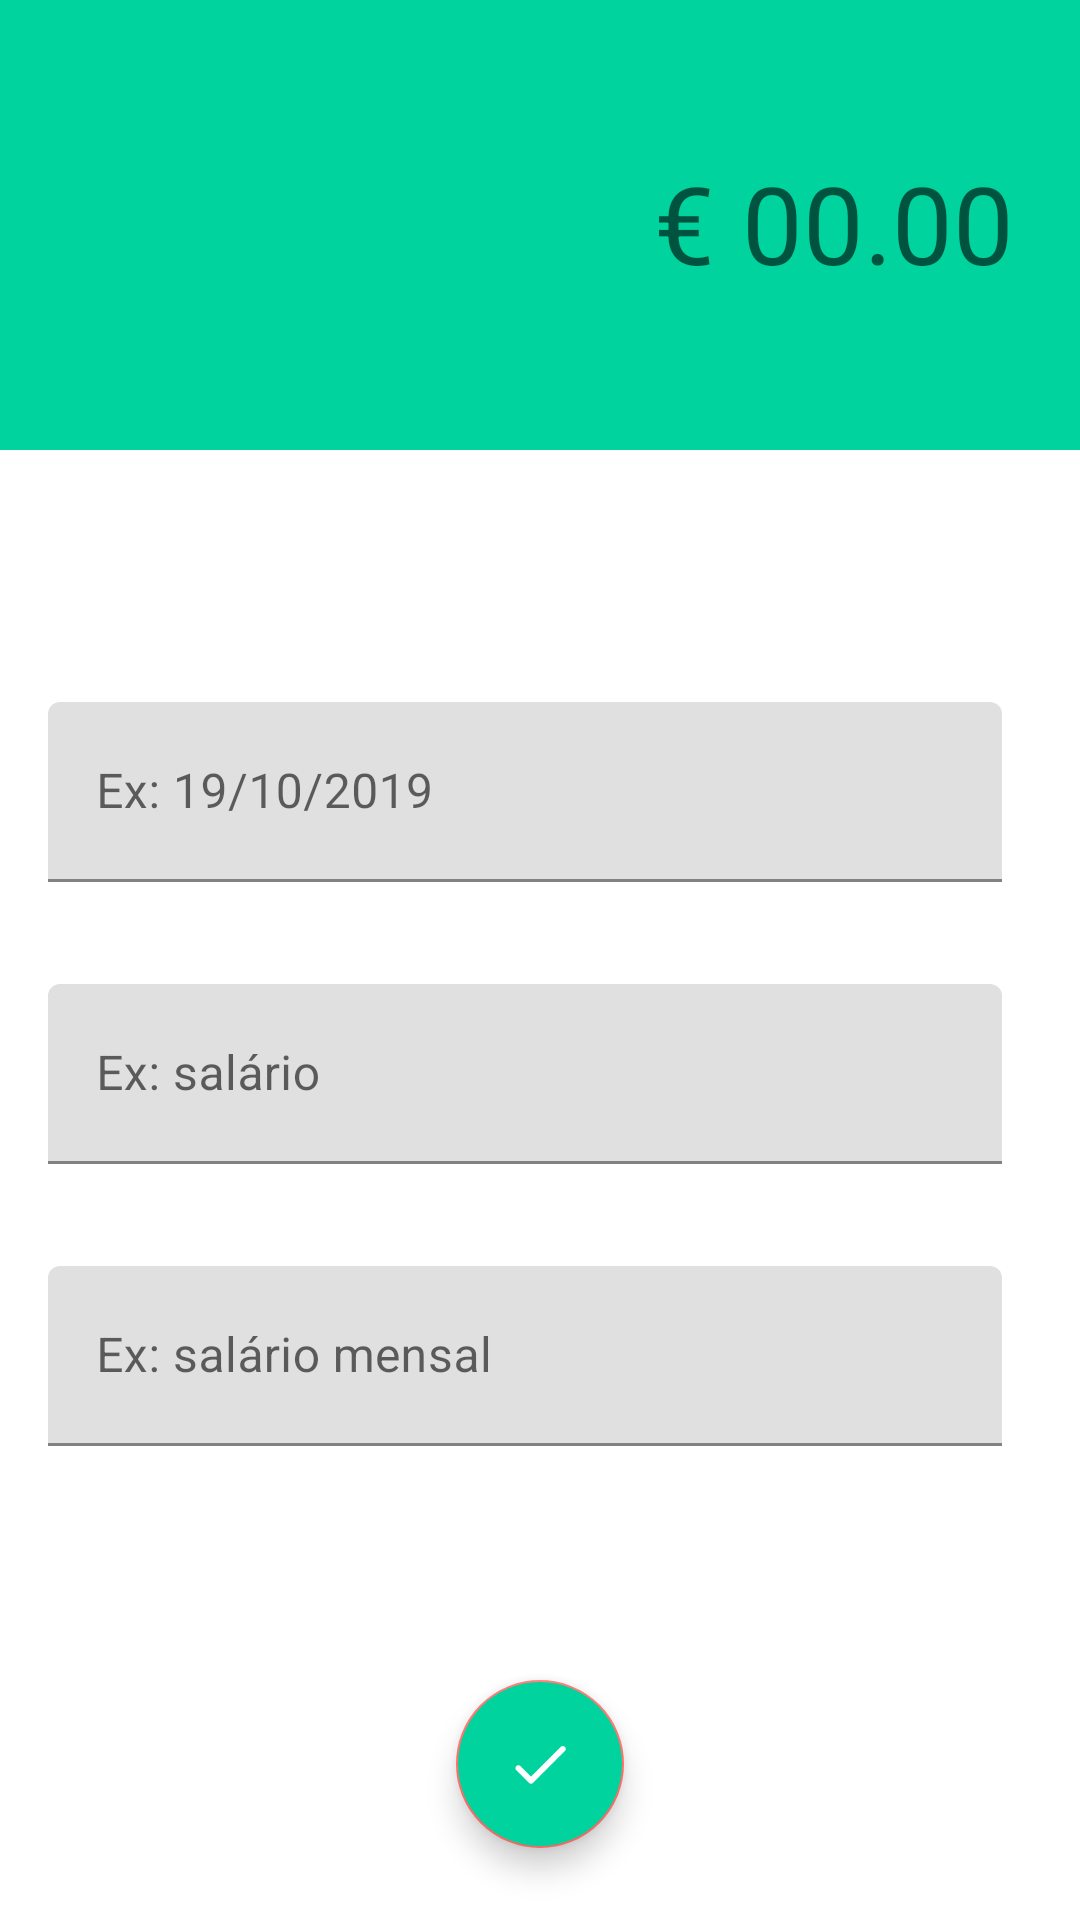

Icons on this 1080 × 1920 Android screen, each with its box as (x1, y1, x2, y2):
done: (456, 1680, 624, 1848)
